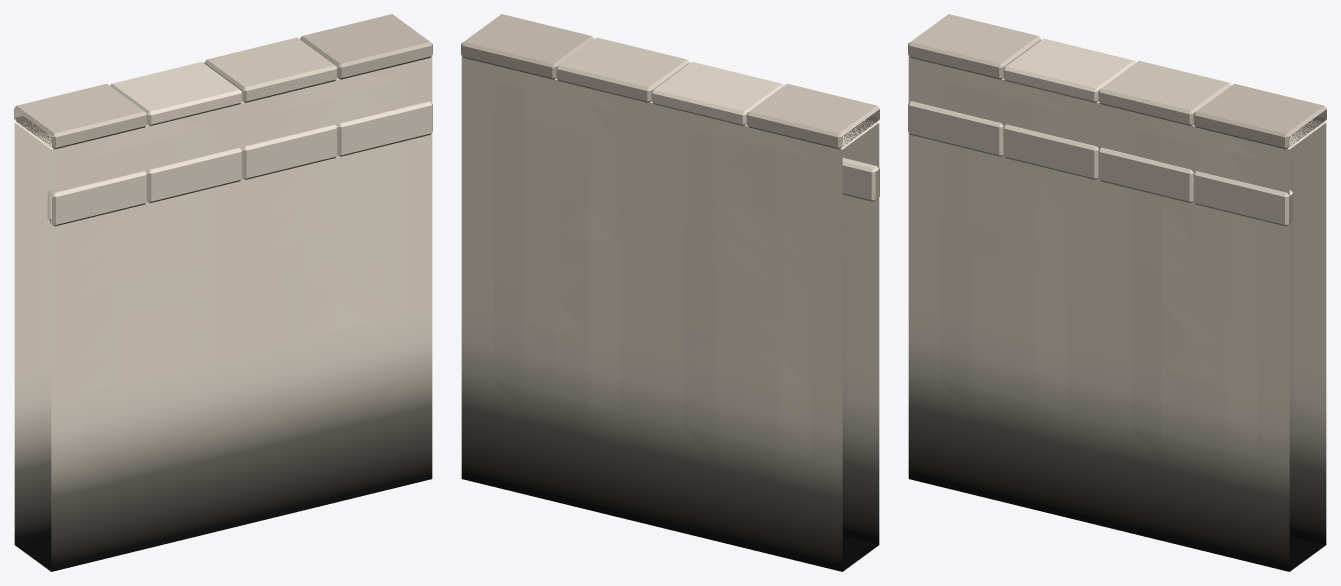
File: SM_VKI_Wall_Ancient_Plain_300_Full.fbx
3 renders of one model, left to right at view 1: azimuth 30°, elevation 25°; view 2: azimuth 150°, elevation 25°; view 3: azimuth 330°, elevation 25°, orthographic.
Visible parts, largest first — view 1: SM_VKI_Wall_Ancient_Plain_300_Full.001; view 2: SM_VKI_Wall_Ancient_Plain_300_Full.001; view 3: SM_VKI_Wall_Ancient_Plain_300_Full.001.
Part boxes in pixels (x1,y1,x2,y2): SM_VKI_Wall_Ancient_Plain_300_Full.001: (14, 14, 432, 571); SM_VKI_Wall_Ancient_Plain_300_Full.001: (461, 14, 879, 571); SM_VKI_Wall_Ancient_Plain_300_Full.001: (908, 14, 1326, 571).
Size of the model in its own units: 3 by 3.3 by 0.56.
